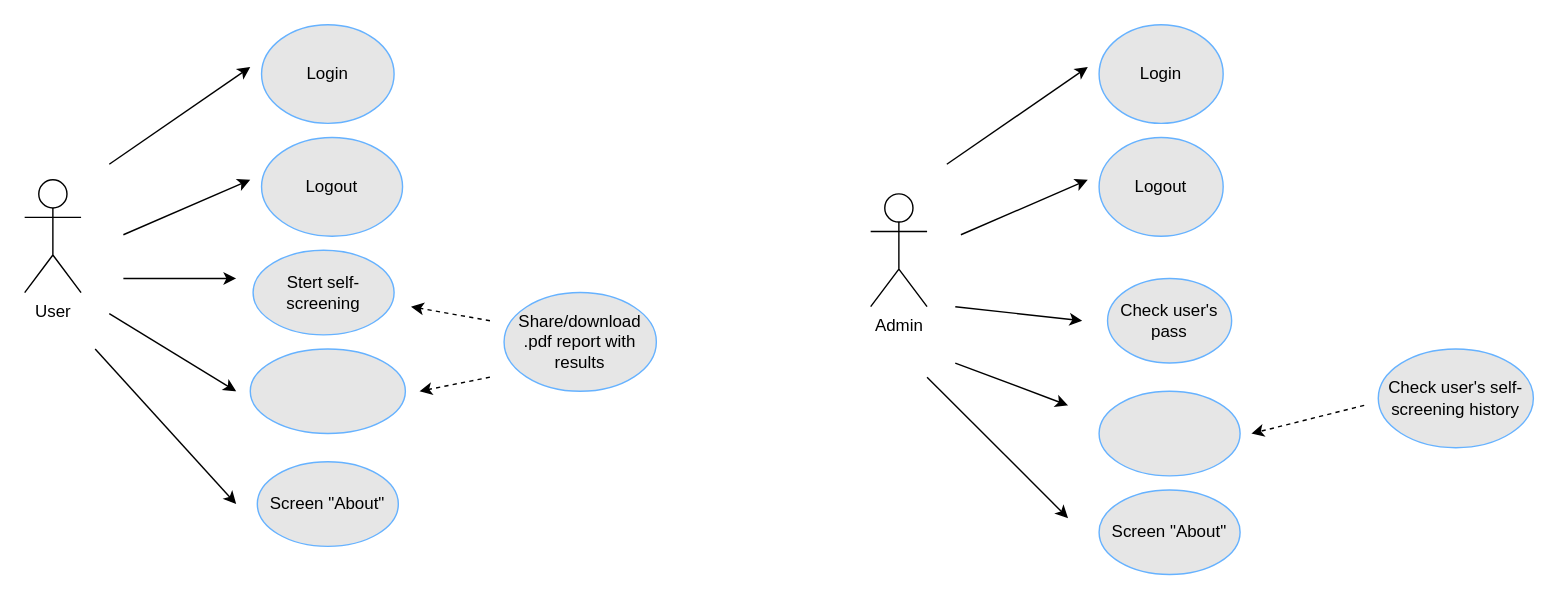
This 1558x599 diagram has some shape labels left out. Each missing label, with the centre of its shape:
"Search user by Username" belongs at [1169,433].
"View self-screening history" belongs at [327,391].
